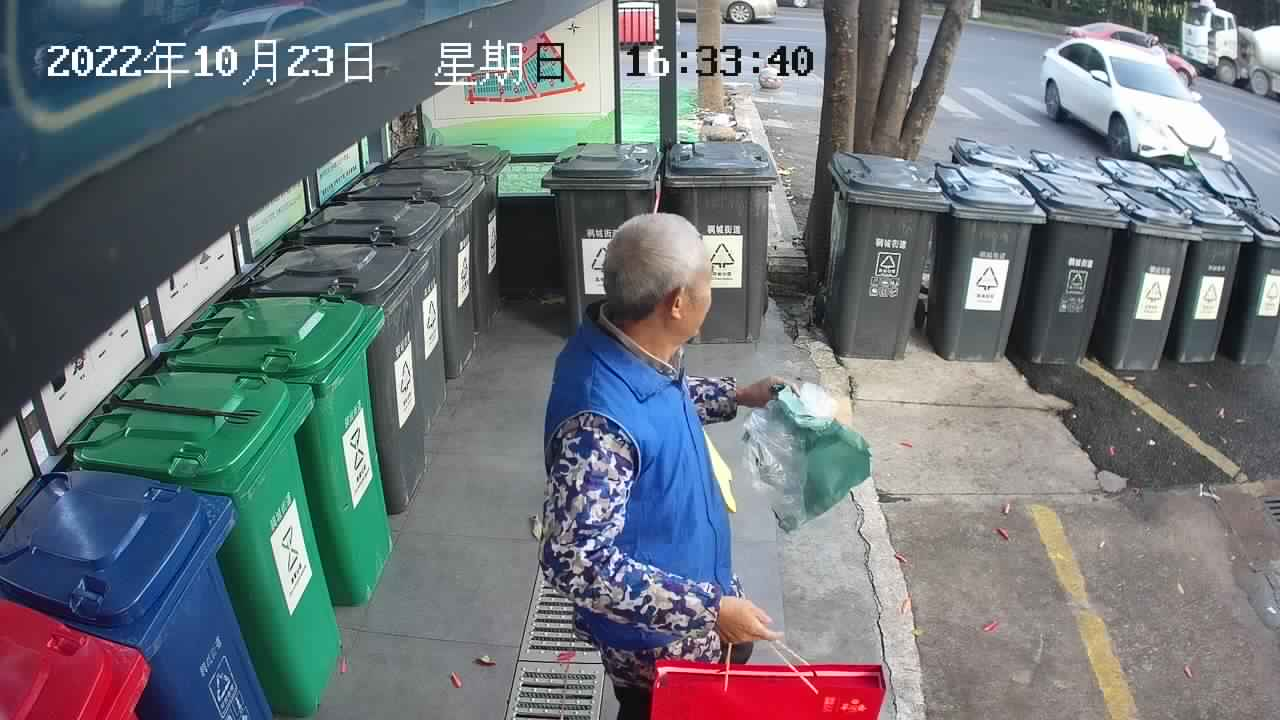garbage-bag: (733, 374, 883, 540)
worker: (526, 203, 803, 720)
zhizhipin: (642, 651, 892, 720)
